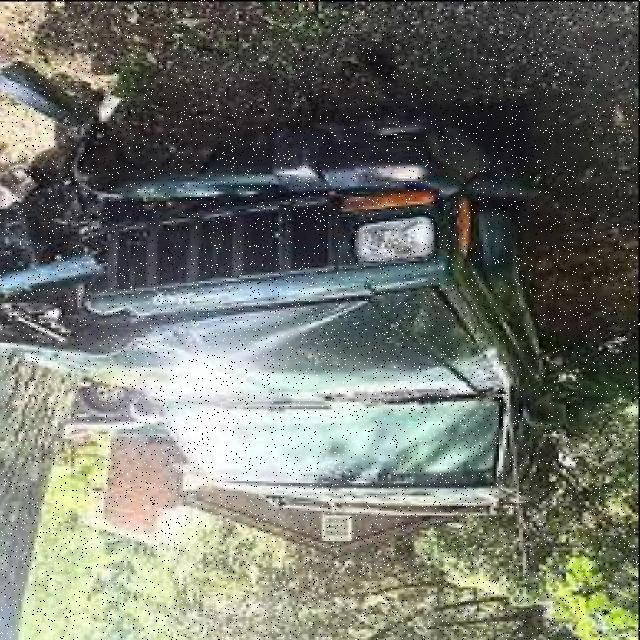damage: (4, 52, 278, 359)
